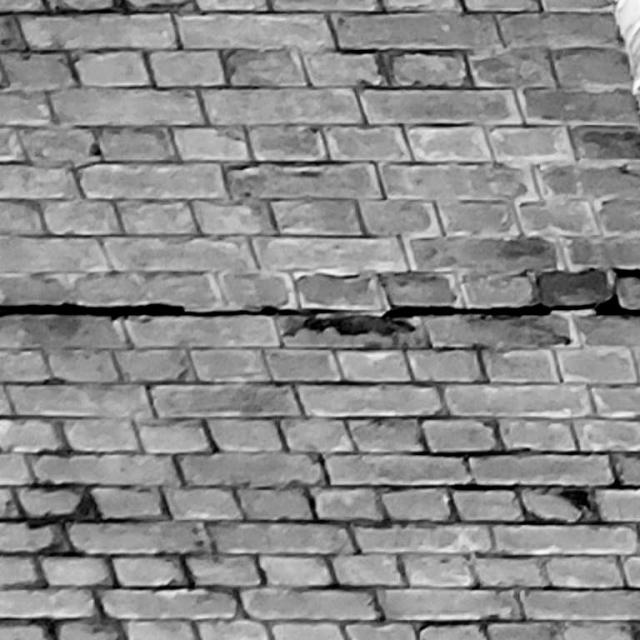crack: (1, 268, 638, 321)
